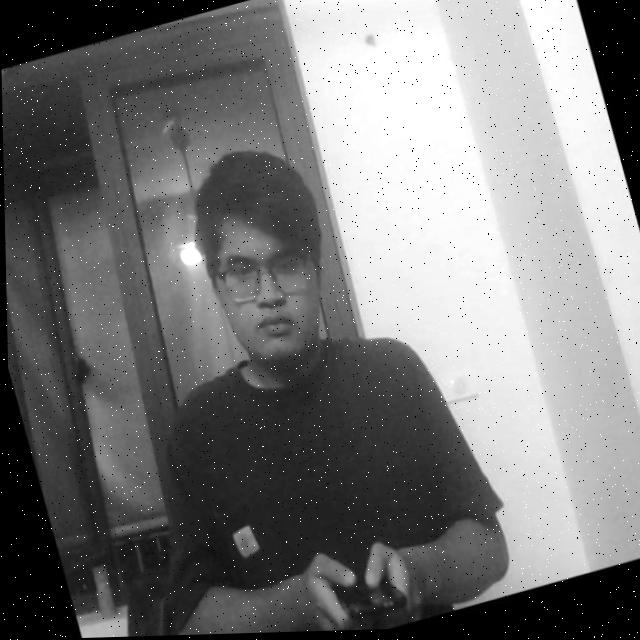phone: (319, 545, 410, 633)
